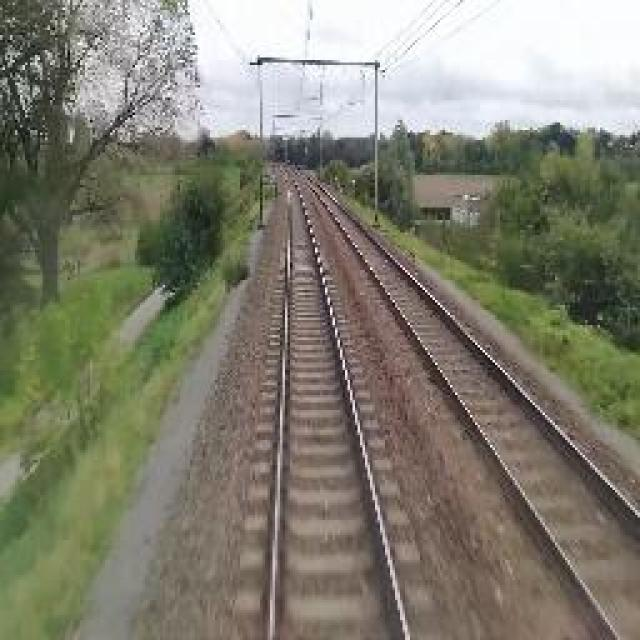rail: (230, 162, 454, 639)
